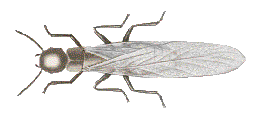flying termite: (15, 5, 251, 122)
